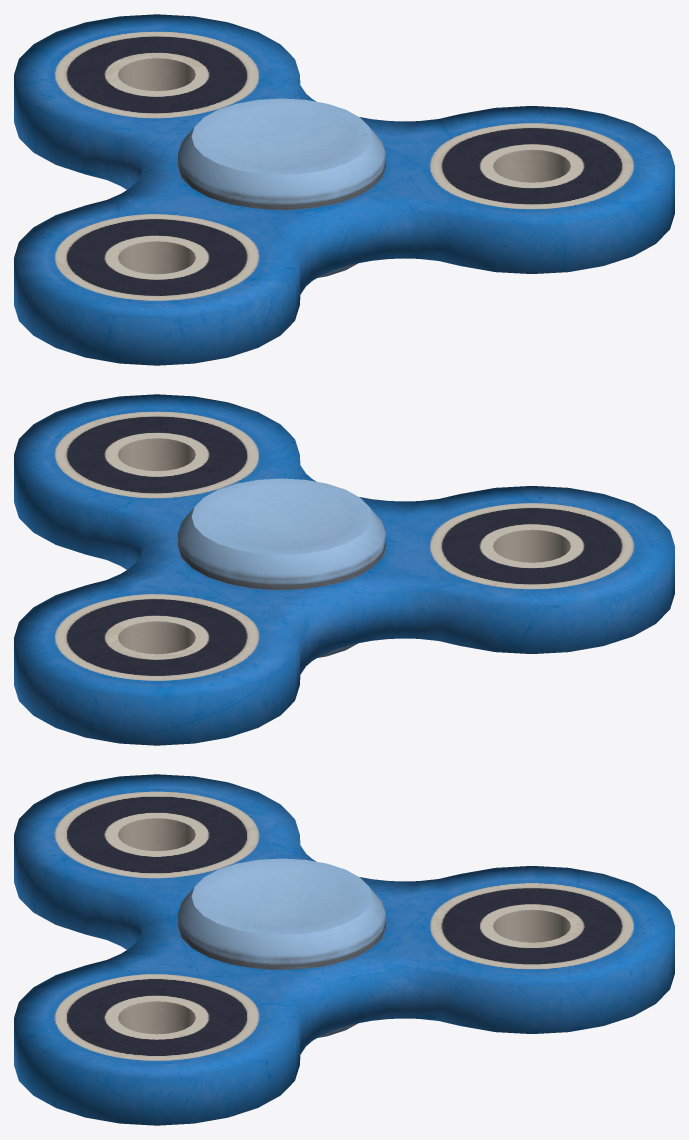
The picture shows the model from 3 angles, top to bottom: view 1: azimuth 30°, elevation 25°; view 2: azimuth 150°, elevation 25°; view 3: azimuth 270°, elevation 25°; orthographic projection.
Visible parts, largest first — view 1: FidgetSpinner:Spinner_Low; view 2: FidgetSpinner:Spinner_Low; view 3: FidgetSpinner:Spinner_Low.
Boxes of the visible parts, x1,y1,x2,y2 form: FidgetSpinner:Spinner_Low: (14, 14, 674, 365); FidgetSpinner:Spinner_Low: (14, 394, 674, 745); FidgetSpinner:Spinner_Low: (14, 774, 674, 1125).
Bounding box in the file's own units: 0.5533 × 0.0905 × 0.5087.
1 material, 1 textured.
